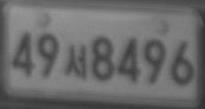4: (11, 30, 37, 78), (118, 37, 142, 83)
6: (169, 40, 194, 86)
8: (91, 36, 115, 80)
9: (37, 32, 60, 77), (144, 38, 167, 83)
서: (65, 43, 87, 80)
